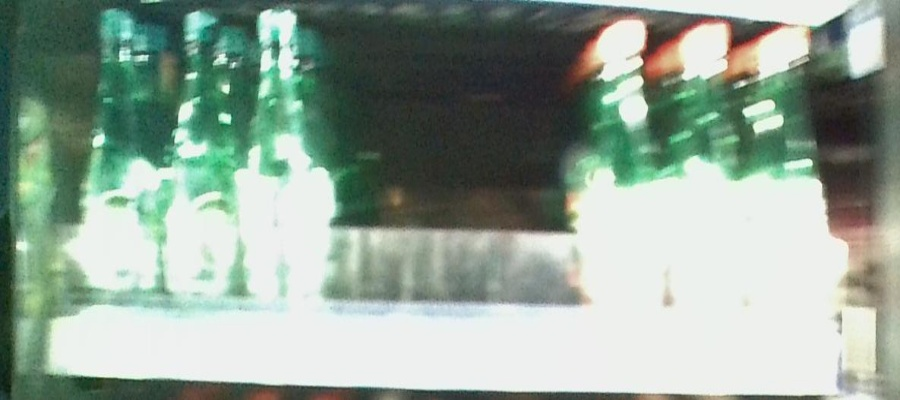bottle: (238, 10, 317, 304), (585, 14, 661, 306), (666, 22, 743, 309), (749, 28, 823, 314), (162, 10, 235, 298), (84, 7, 150, 305)
